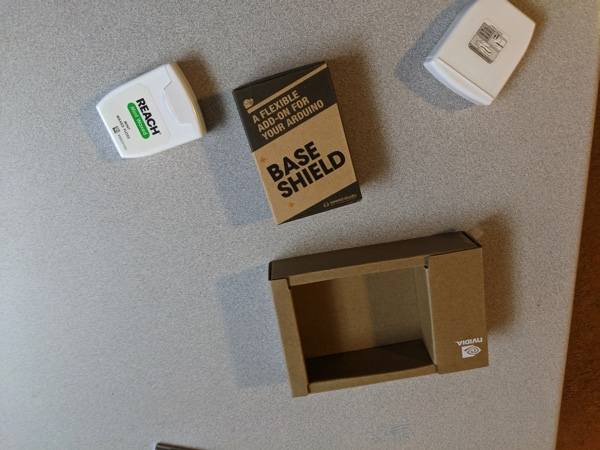cardboard: (249, 231, 508, 403), (223, 64, 372, 233)
plastic: (82, 48, 214, 185), (395, 1, 548, 116)
